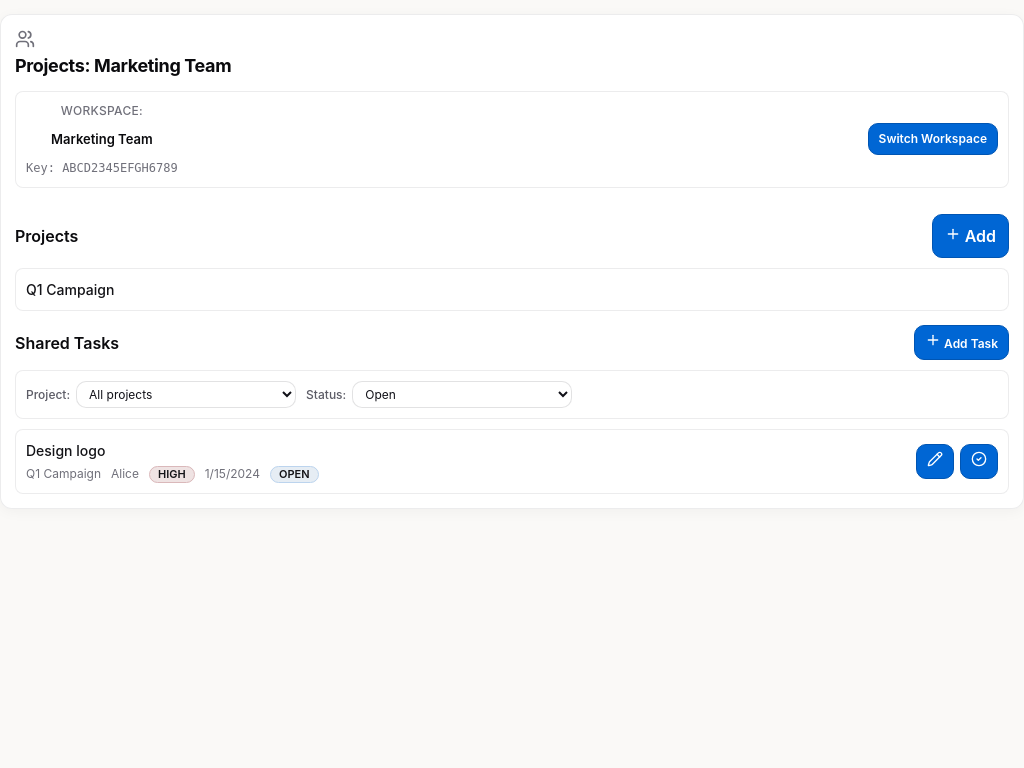
Test: ProjectsPanel › Task editor › clicking Edit opens the editor with existing task values
What coordinates should you click on to do the following:
click the button titled "Edit task"
I would click on:
 (935, 462)
Its box is [916,444,954,479].
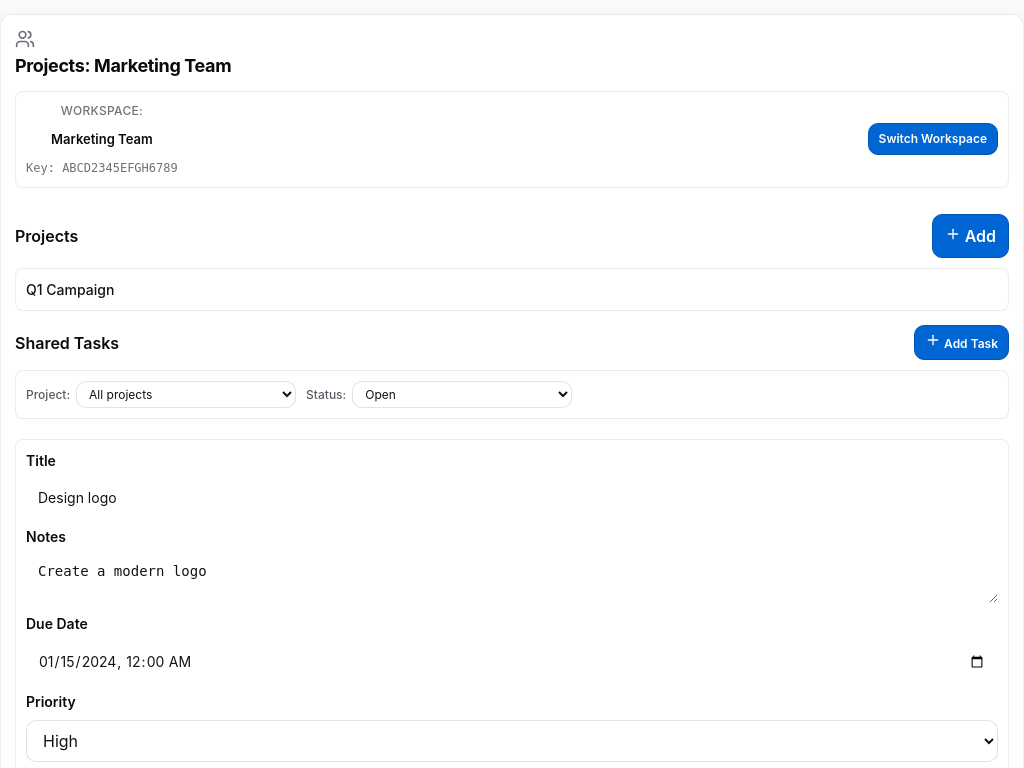
Result: the field showing "Design logo" is shown at [26,479,998,516]
Result: the text box showing "Create a modern logo" is shown at [26,555,998,603]
